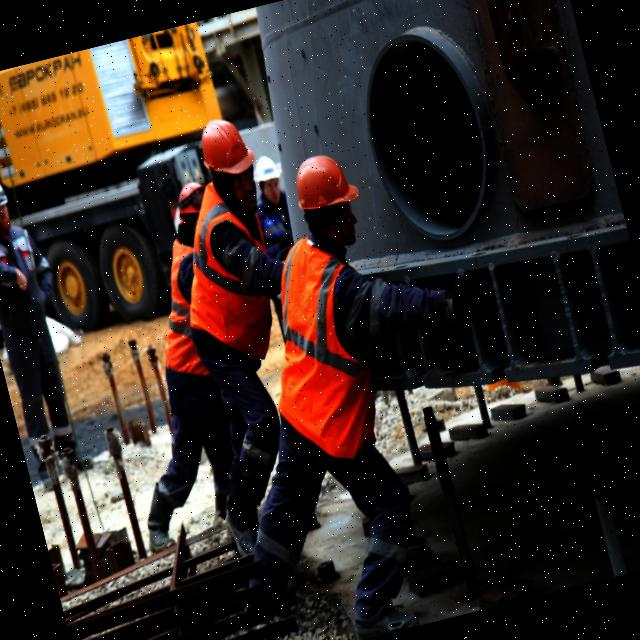Helmet: (290, 148, 363, 223), (195, 113, 259, 186), (173, 181, 208, 219), (253, 151, 285, 189), (1, 173, 13, 218)
Jacket: (255, 232, 391, 442), (170, 186, 288, 358), (157, 244, 222, 372)
NoJacket: (1, 216, 52, 338)
